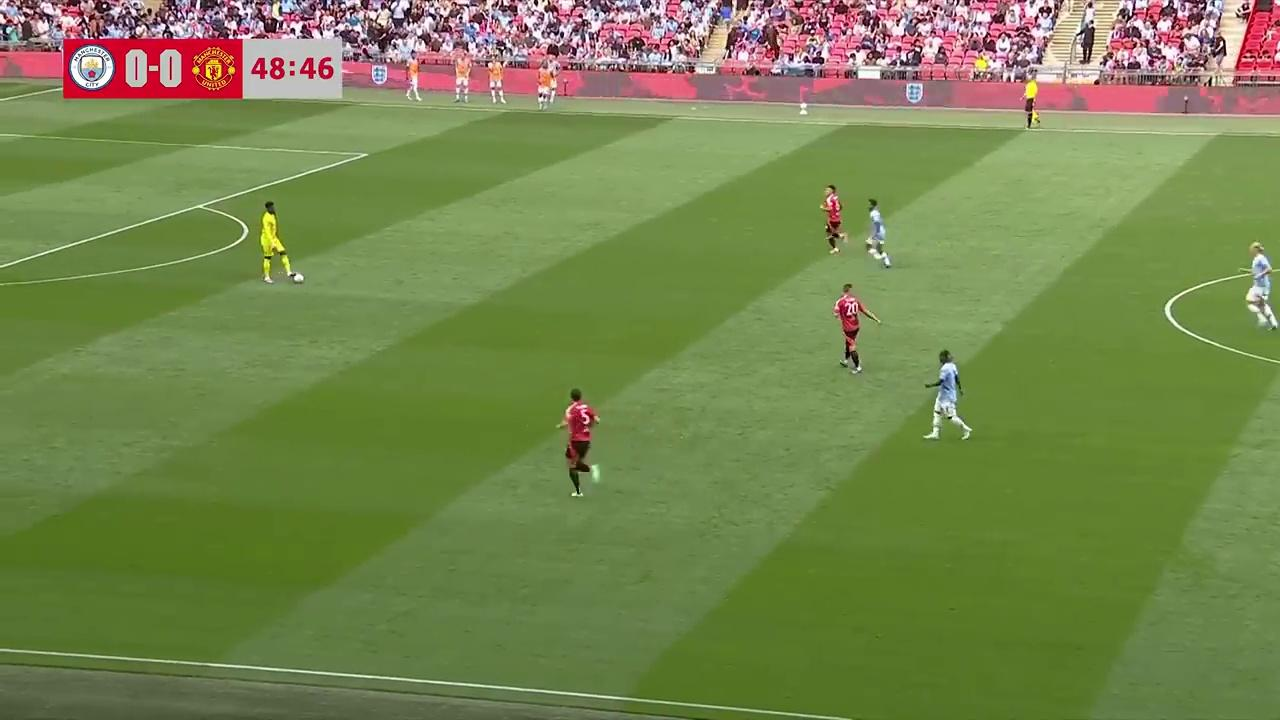ball: (292, 270, 305, 284)
player: (557, 388, 600, 498), (921, 350, 972, 441), (832, 283, 881, 373), (259, 201, 295, 284), (1245, 244, 1278, 331), (820, 185, 847, 254), (865, 200, 891, 268)
referee: (1022, 79, 1042, 129)
